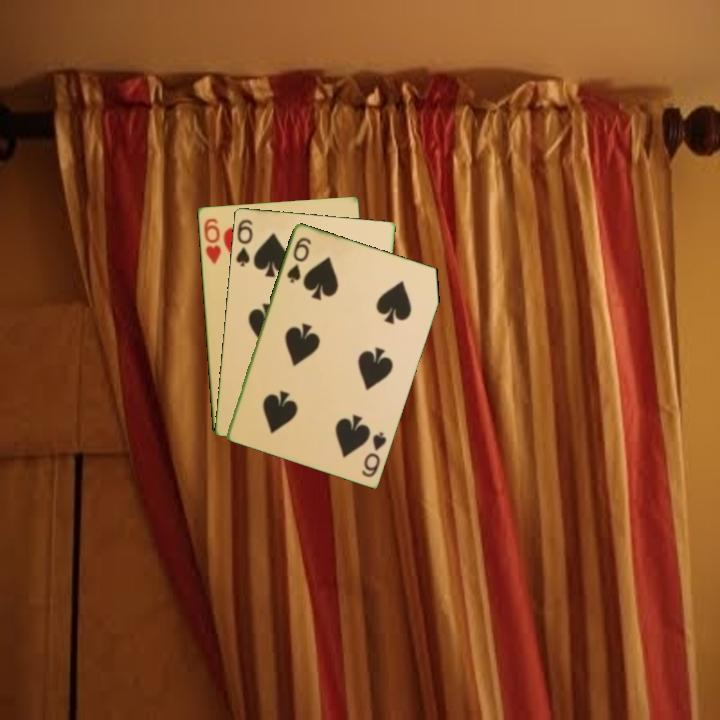6h: (200, 214, 223, 267)
6s: (283, 233, 314, 285), (358, 428, 389, 480), (232, 215, 255, 269)
